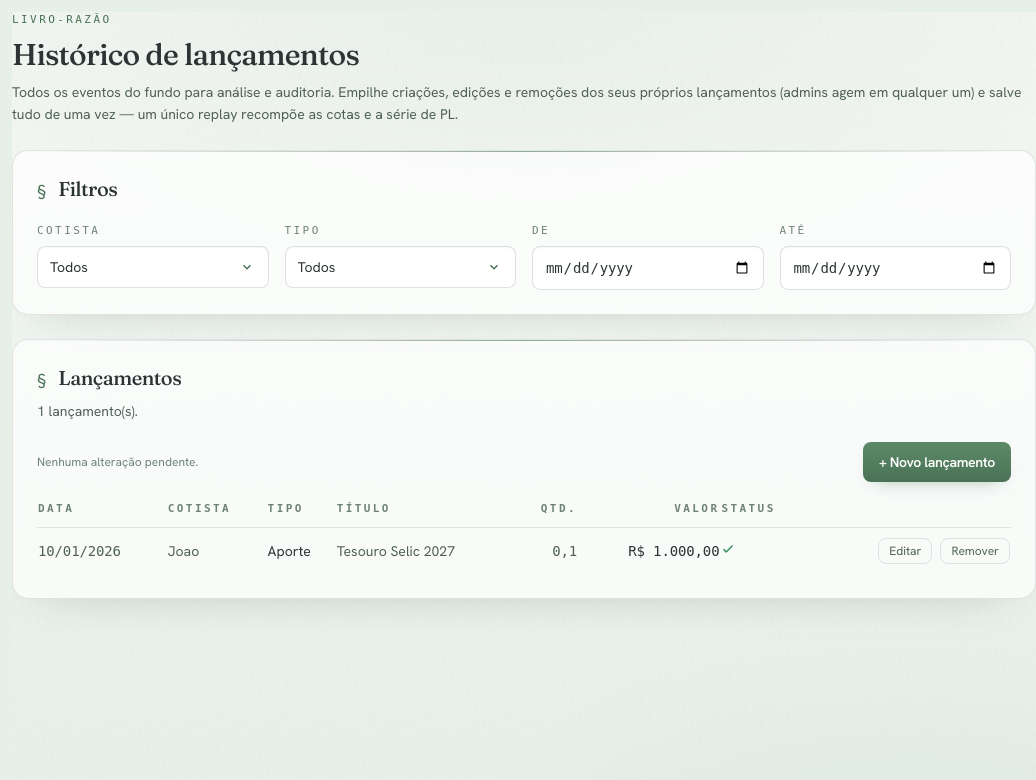
HistoricoView — rascunho em batch › Desfazer remove a pendência do rascunho
The image size is (1036, 780).
Expected: the text "Tesouro Selic 2027" is shown, [336,528,520,574]
Click the button "Remover" at (975, 551), box [940,538,1010,564]
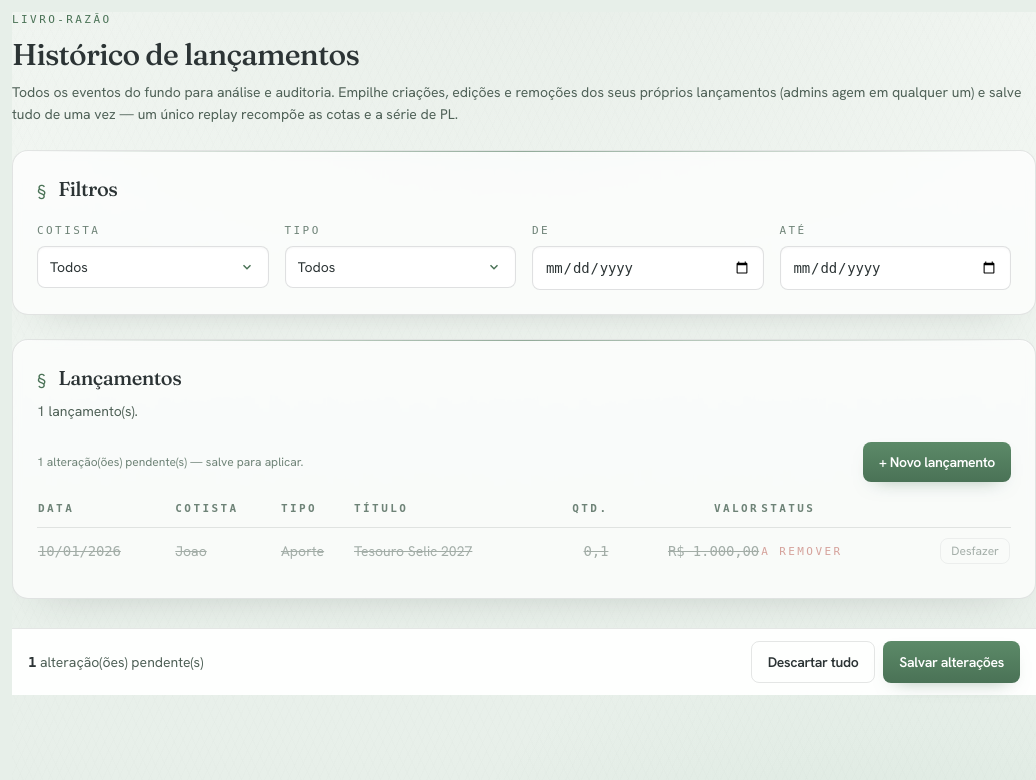
Expected: the button "Salvar alterações" is shown, [883,641,1020,683]
Click the button "Desfazer" at (975, 551), box [940,538,1010,564]
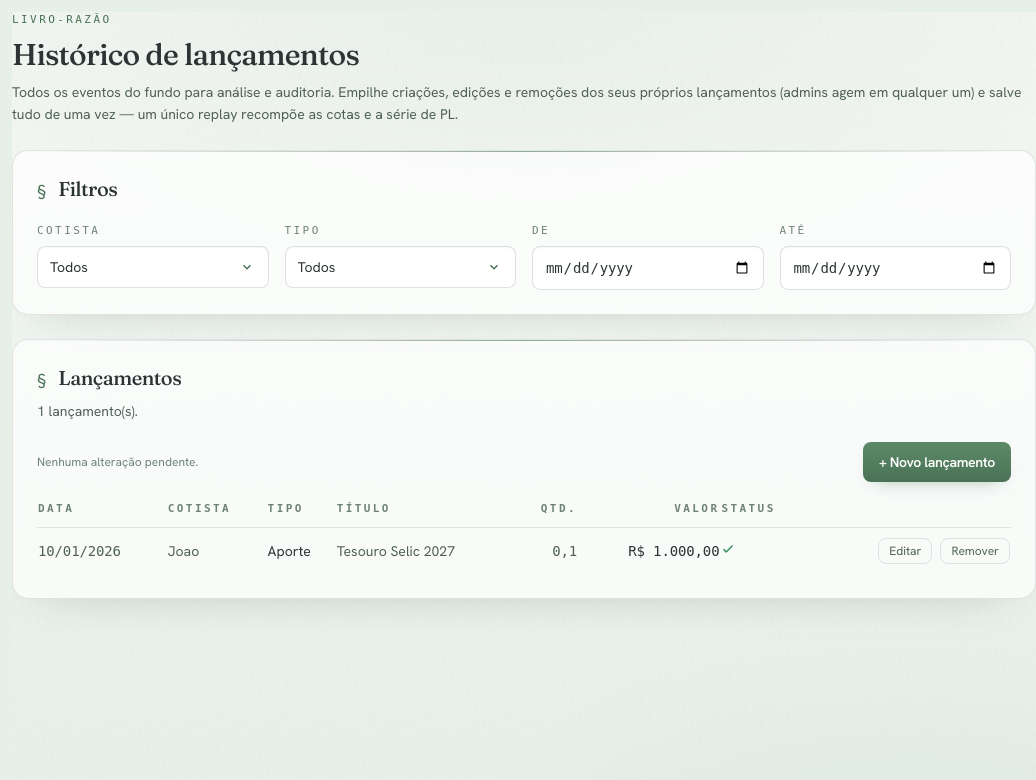
Expected: the button "Salvar alterações" is gone
